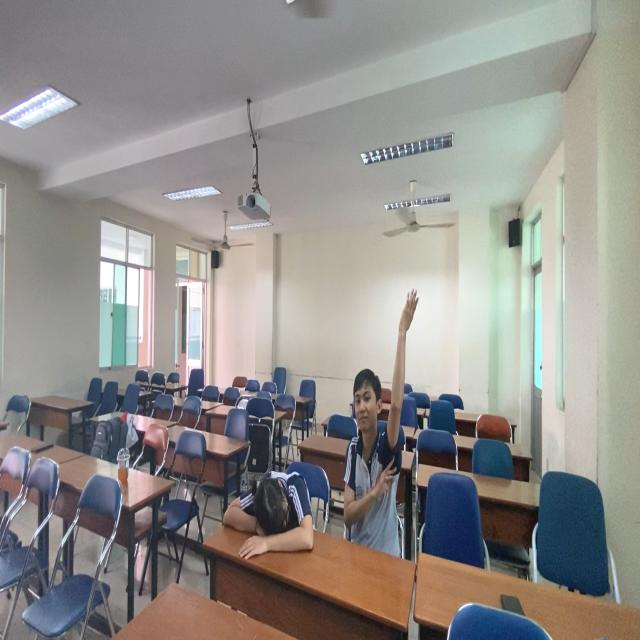raise_hand: (340, 283, 424, 536)
sleep: (221, 463, 322, 565)
